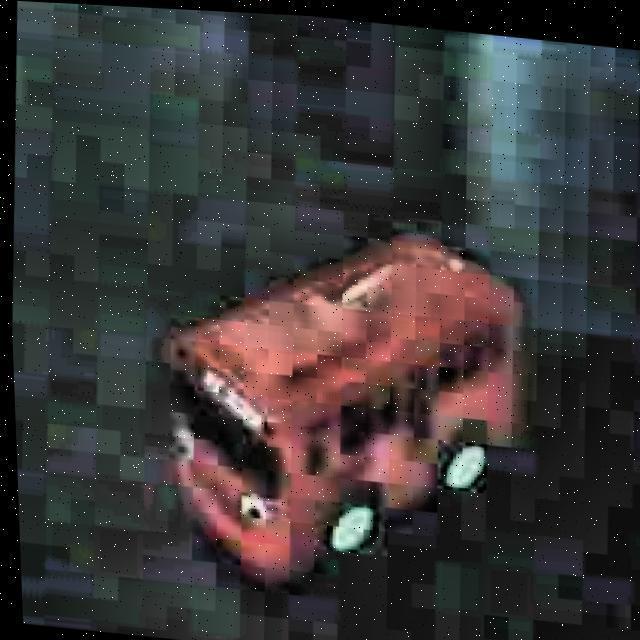bus: (146, 196, 542, 616)
